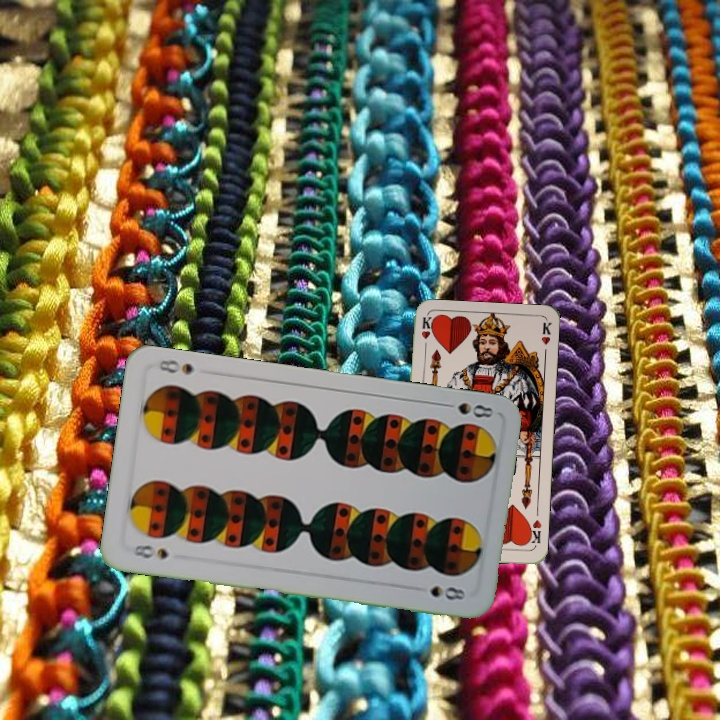HK: (417, 313, 434, 354), (524, 516, 544, 549)
S8: (437, 399, 496, 421), (124, 540, 171, 562)
